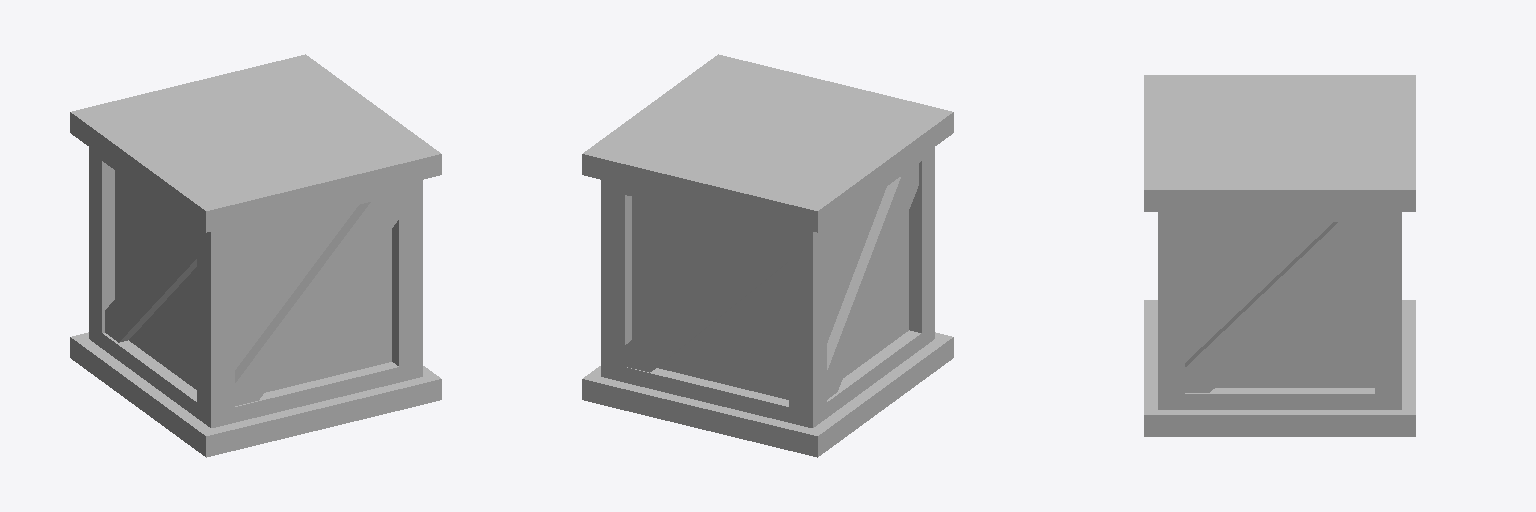
Rendered from crate_2_small.obj.
3 views of the same model, side by side, from view 1: azimuth 30°, elevation 25°; view 2: azimuth 150°, elevation 25°; view 3: azimuth 270°, elevation 25° (orthographic).
Parts seen in each view (by area): view 1: Crate_2_Small_Cube.037; view 2: Crate_2_Small_Cube.037; view 3: Crate_2_Small_Cube.037.
Boxes of the visible parts, x1,y1,x2,y2 form: Crate_2_Small_Cube.037: [70, 54, 441, 457]; Crate_2_Small_Cube.037: [582, 54, 953, 457]; Crate_2_Small_Cube.037: [1144, 75, 1415, 436].
Size of the model in its own units: 0.7475 by 0.7465 by 0.7475.